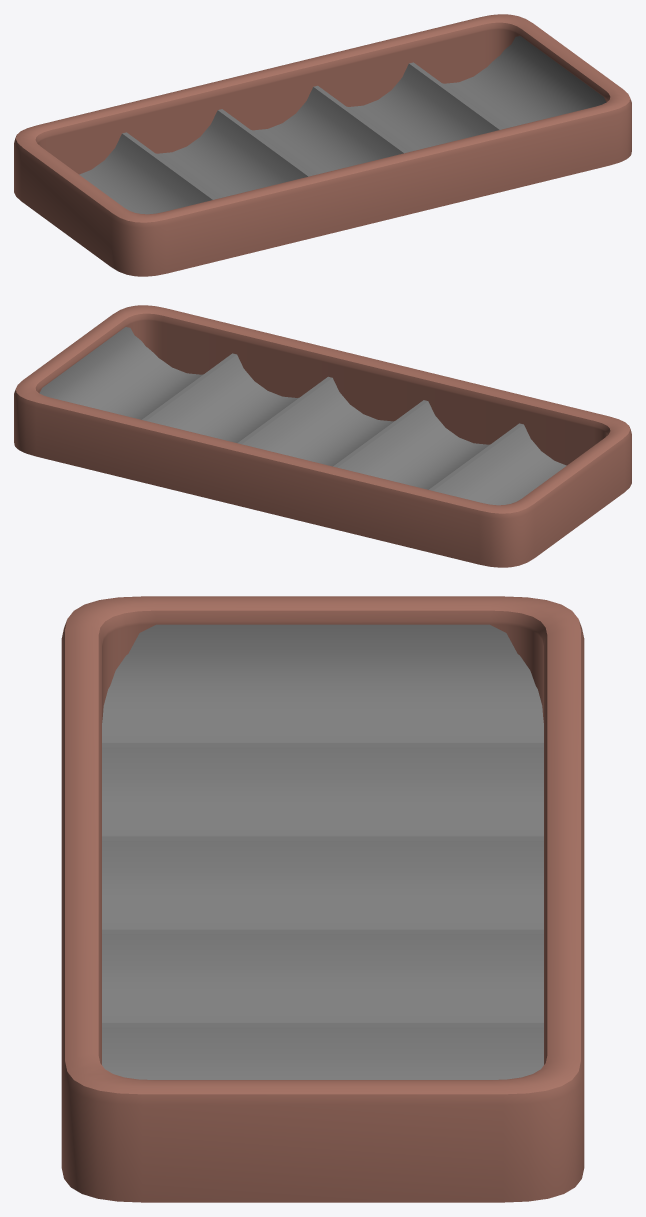
The model's file is CanBox(5).fbx.
3 renders of one model, top to bottom at view 1: azimuth 30°, elevation 25°; view 2: azimuth 150°, elevation 25°; view 3: azimuth 270°, elevation 25°, orthographic. The views are drawn at different scales.
Parts seen in each view (by area): view 1: CanBox(5); view 2: CanBox(5); view 3: CanBox(5).
Part boxes in pixels (left/top/right/bottom): CanBox(5): left=14, top=14, right=631, bottom=276; CanBox(5): left=14, top=305, right=631, bottom=567; CanBox(5): left=61, top=596, right=584, bottom=1202.
Bounding box in the file's own units: 440 × 45 × 194.
